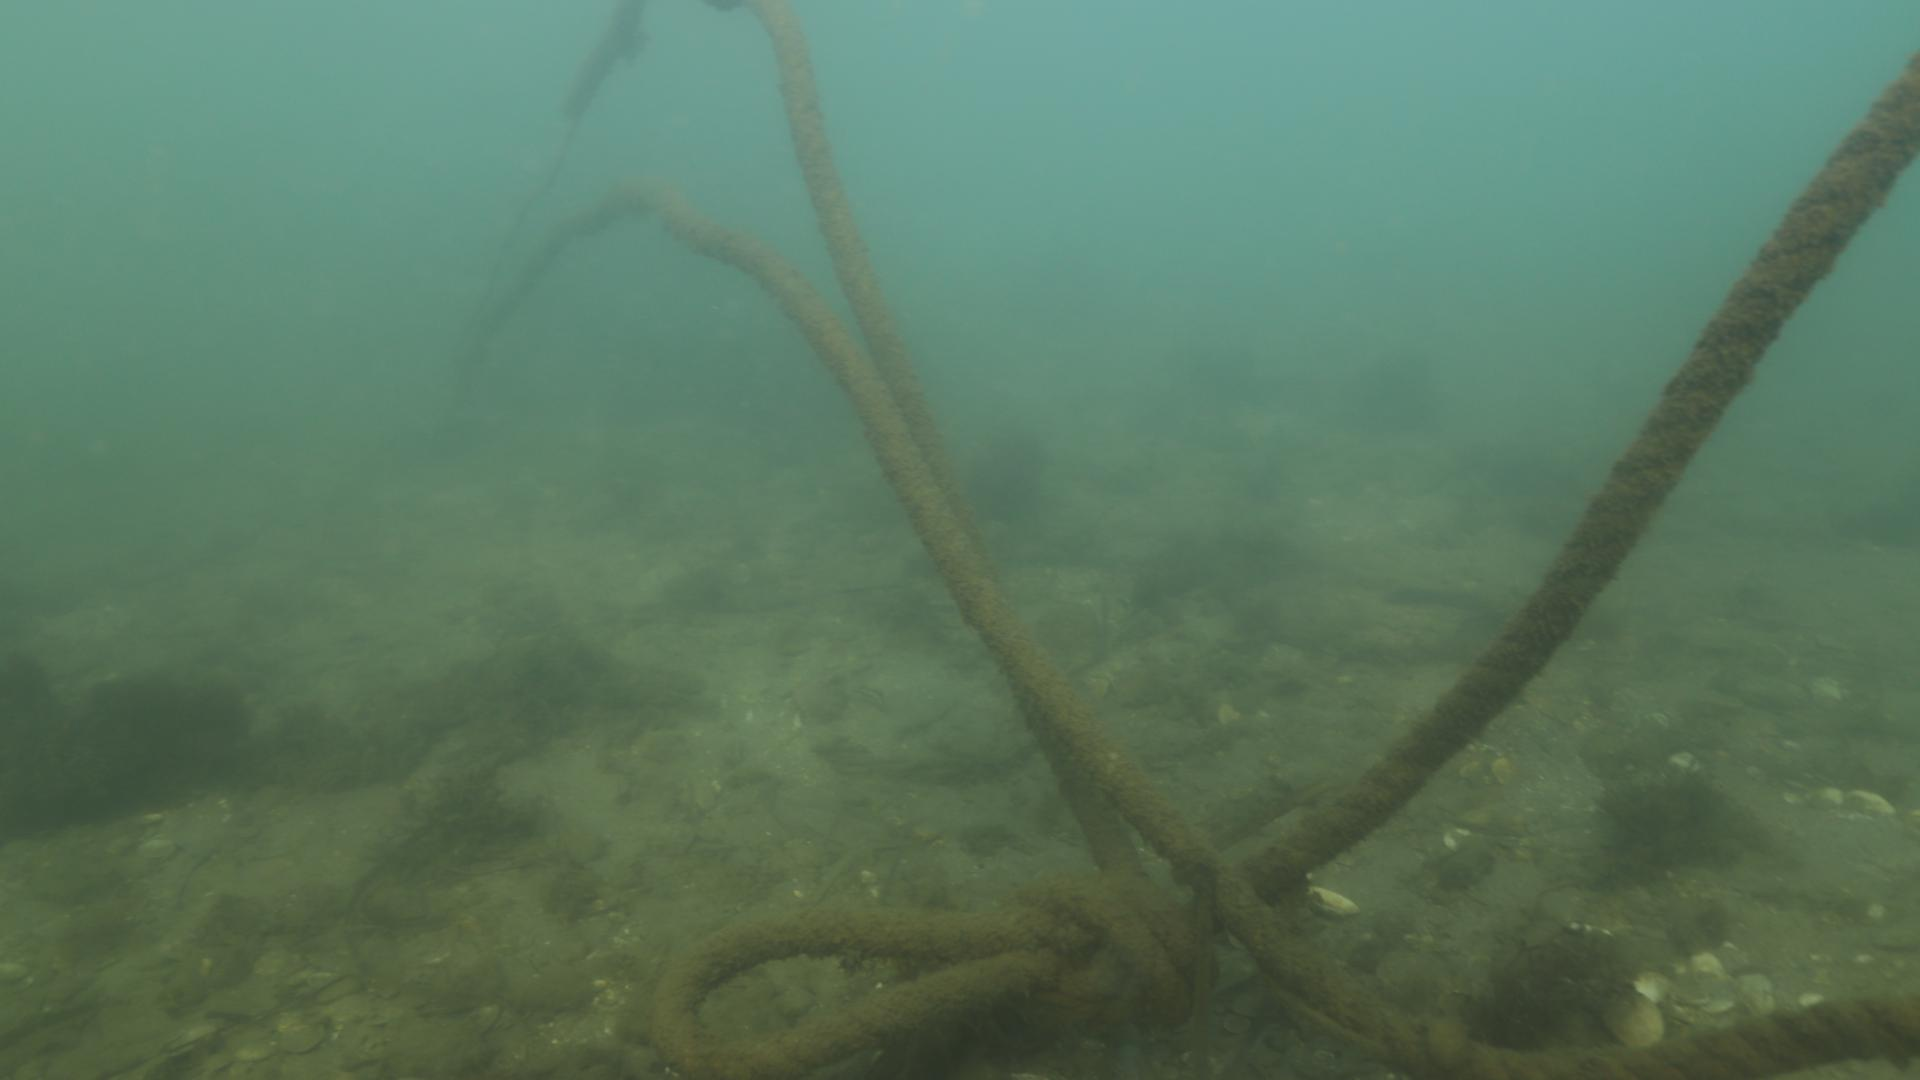bundle of ropes: (531, 3, 1920, 1080)
